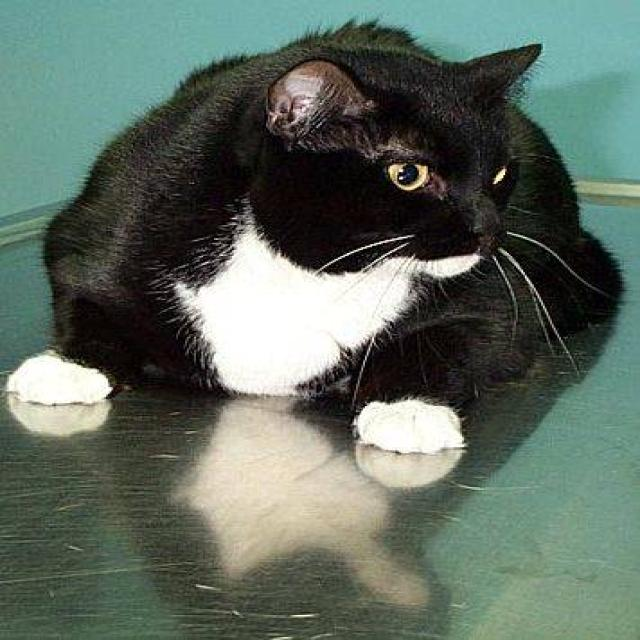cat: (4, 16, 628, 456)
